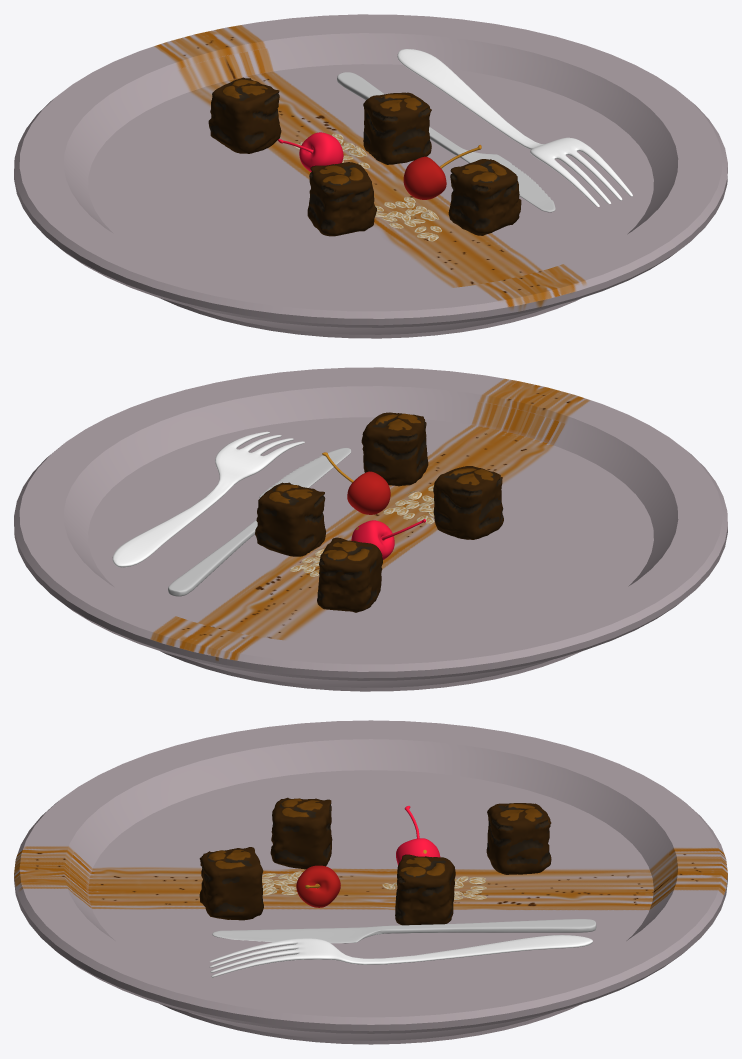
File: Kue lepa Tjoklat.fbx
3 views of the same model, one above another, from view 1: azimuth 30°, elevation 25°; view 2: azimuth 150°, elevation 25°; view 3: azimuth 270°, elevation 25° (orthographic).
Parts seen in each view (by area): view 1: Cylinder.001, fork, Cube.004, Cube.003, Cube.002, Cube.001, Knife, 10174_Cherry_v01_l3, 10174_Cherry_v01_l3.002; view 2: Cylinder.001, fork, Cube.002, Cube.001, Cube.003, Cube.004, Knife, 10174_Cherry_v01_l3, 10174_Cherry_v01_l3.002; view 3: Cylinder.001, fork, Knife, Cube.003, Cube.004, Cube.002, Cube.001, 10174_Cherry_v01_l3, 10174_Cherry_v01_l3.002.
Part boxes in pixels (<box>): Cylinder.001: <box>14,14,727,338</box>; fork: <box>397,49,632,206</box>; Cube.004: <box>448,159,521,235</box>; Cube.003: <box>208,77,281,153</box>; Cube.002: <box>307,162,376,236</box>; Cube.001: <box>363,92,431,164</box>; Knife: <box>337,72,555,212</box>; 10174_Cherry_v01_l3: <box>403,145,481,199</box>; 10174_Cherry_v01_l3.002: <box>278,132,343,171</box>; Cylinder.001: <box>14,367,727,691</box>; fork: <box>112,431,304,567</box>; Cube.002: <box>433,466,503,539</box>; Cube.001: <box>255,482,325,556</box>; Cube.003: <box>317,537,382,612</box>; Cube.004: <box>361,412,428,486</box>; Knife: <box>168,447,351,596</box>; 10174_Cherry_v01_l3: <box>322,452,390,514</box>; 10174_Cherry_v01_l3.002: <box>351,519,425,559</box>; Cylinder.001: <box>14,720,727,1044</box>; fork: <box>209,935,592,977</box>; Knife: <box>212,919,596,943</box>; Cube.003: <box>486,803,551,874</box>; Cube.004: <box>199,847,263,920</box>; Cube.002: <box>270,797,332,869</box>; Cube.001: <box>395,854,455,925</box>; 10174_Cherry_v01_l3: <box>296,865,340,907</box>; 10174_Cherry_v01_l3.002: <box>396,806,440,865</box>.
Size of the model in its own units: 200 by 28.2 by 200.
